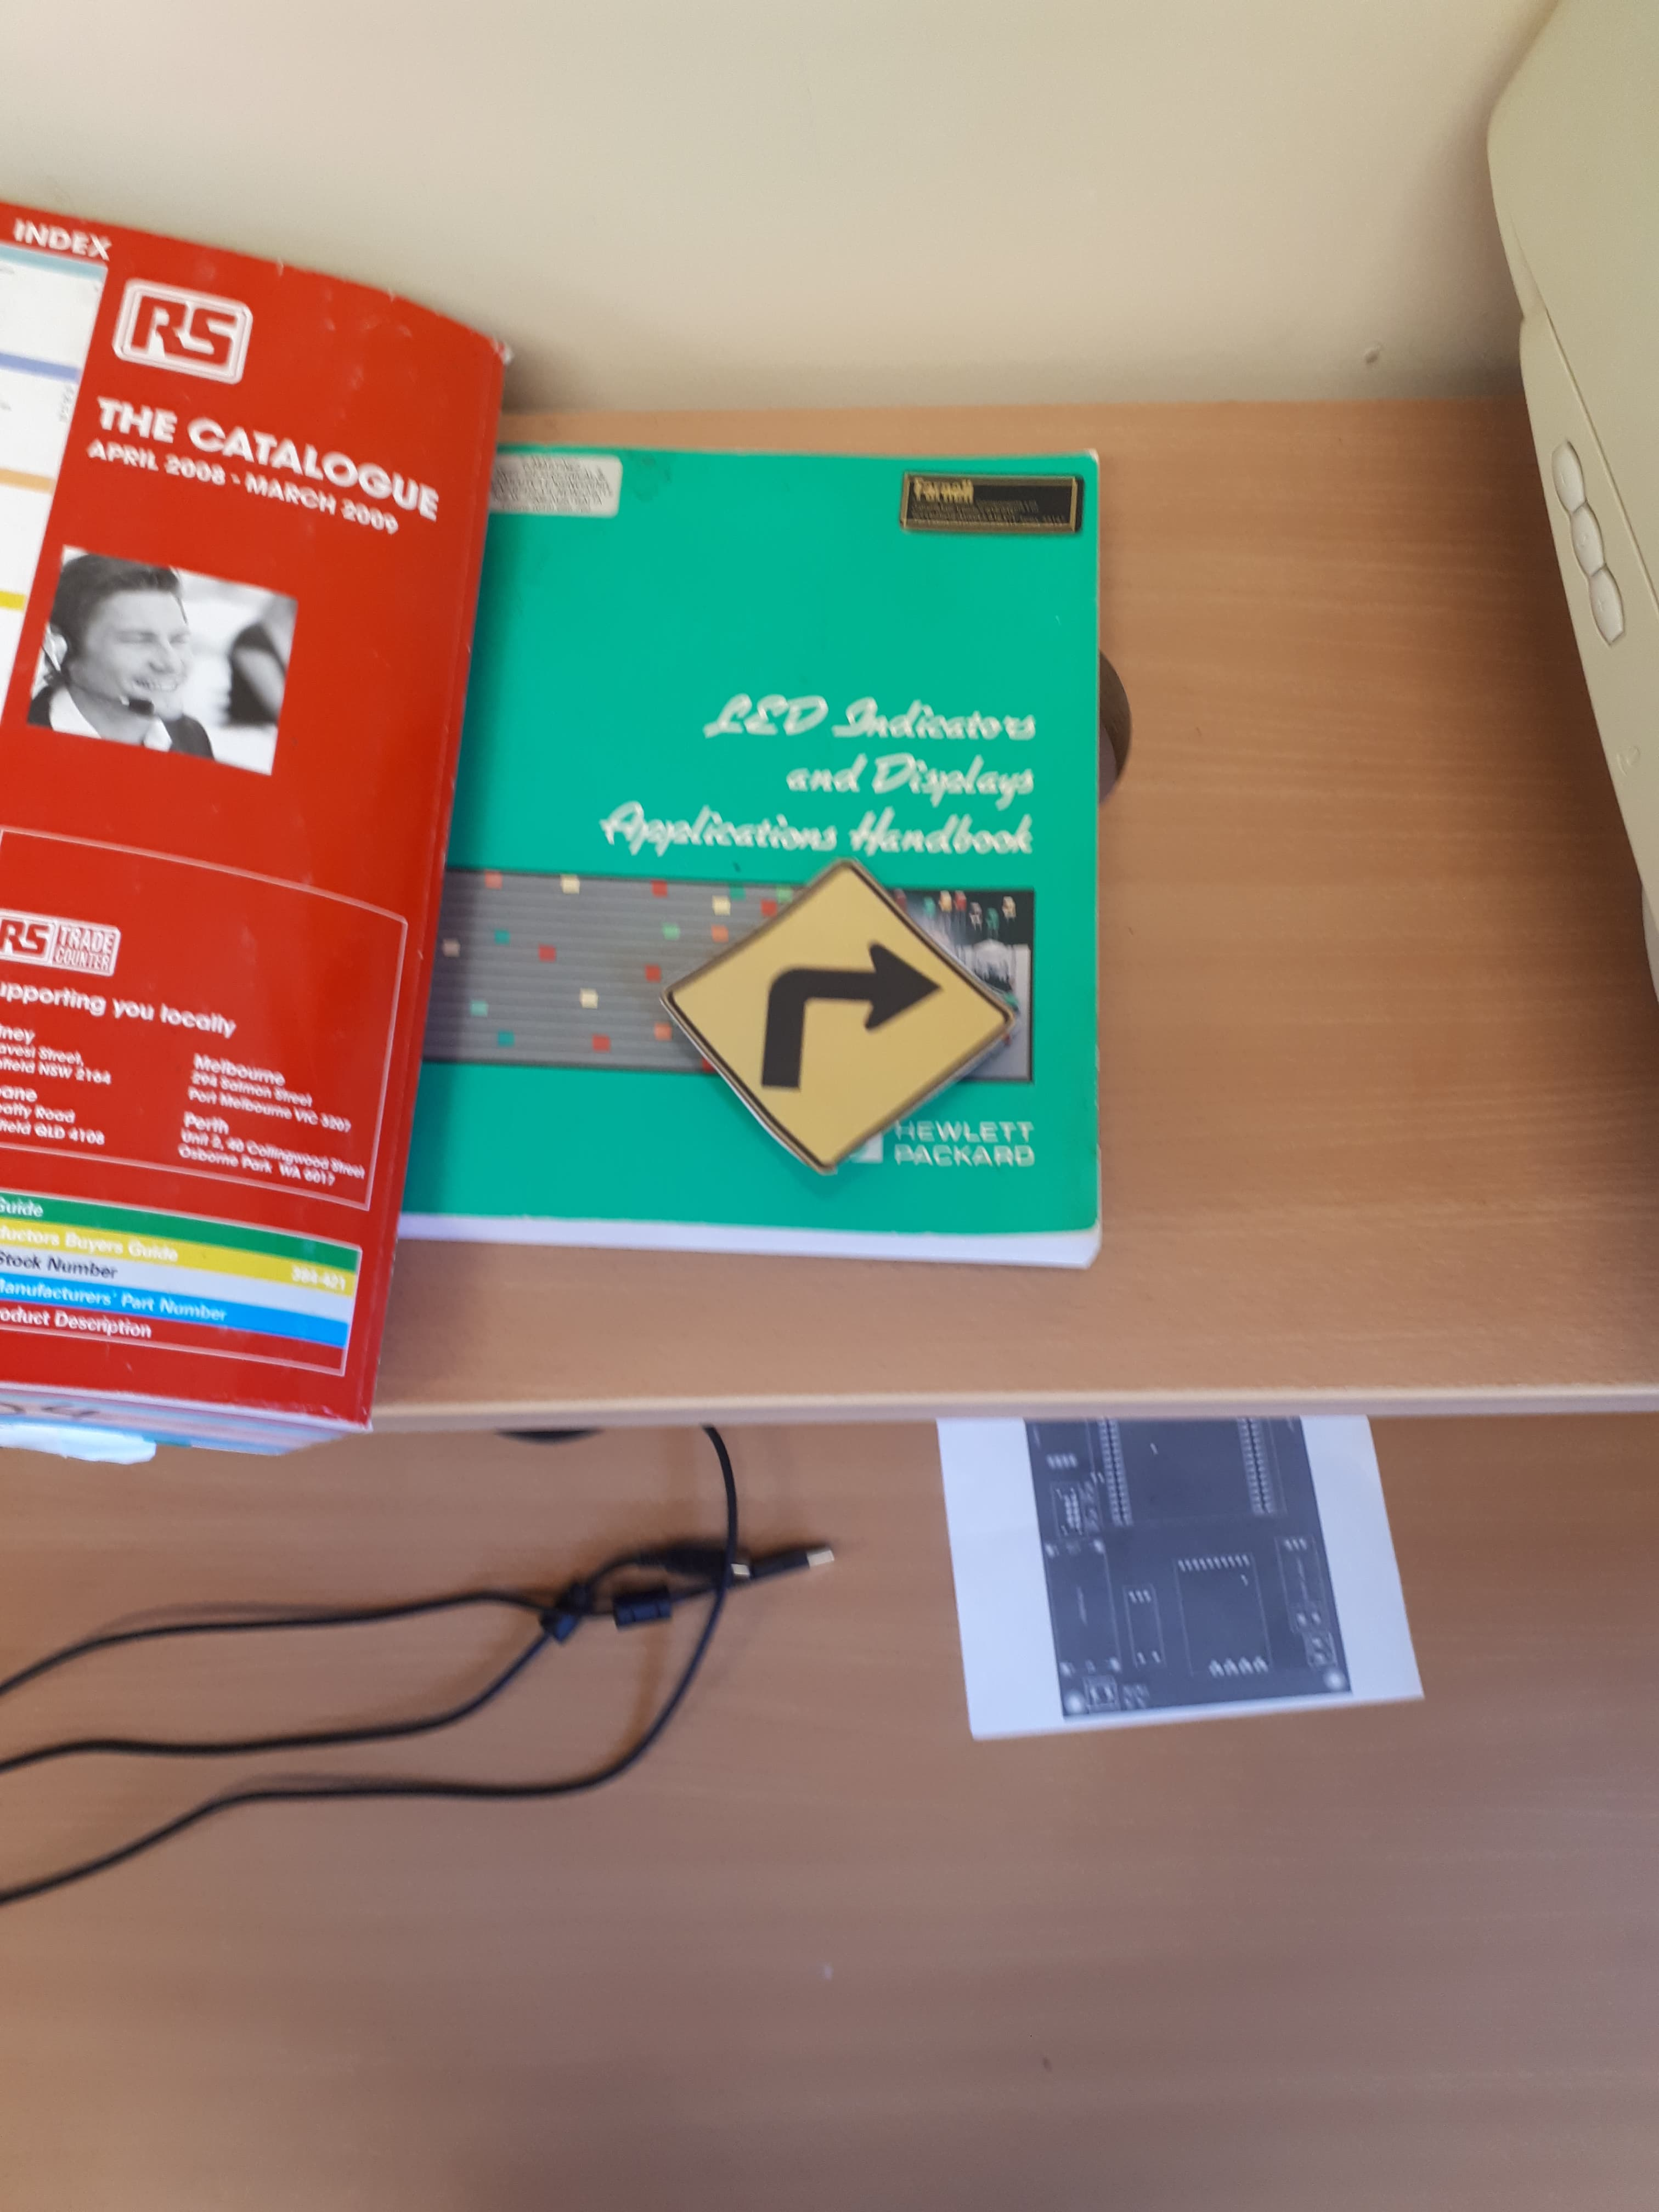right: (631, 867, 1042, 1202), (755, 923, 974, 1055), (857, 932, 950, 1031)
